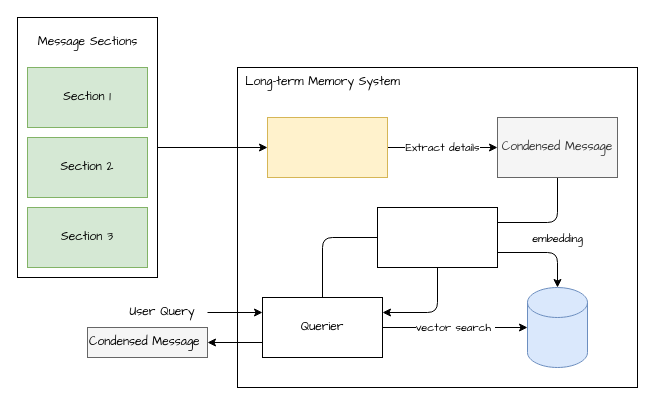
This 655x405 diagram has some shape labels left out. The shapes that lost their labels are listed below. From the top down, each one's centre as x and y in pixels, then its label:
At pixel 327 147: "LLM".
At pixel 437 237: "Embedding Model".
At pixel 557 327: "Vector DB".
